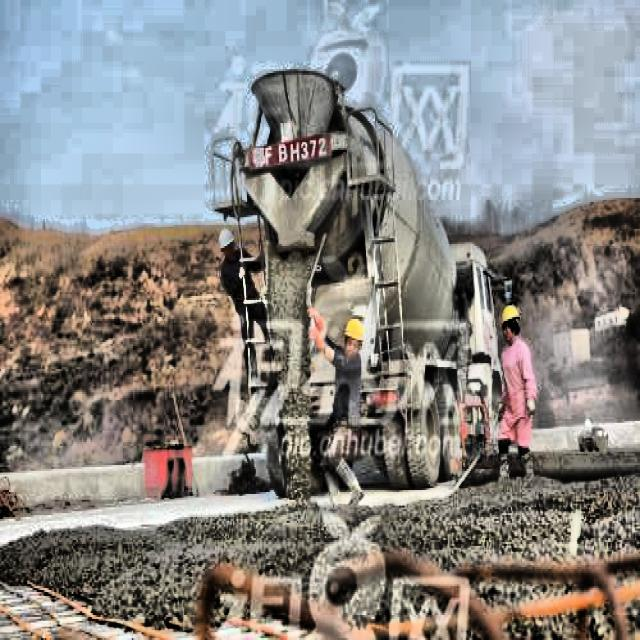helmet: (341, 316, 368, 362), (499, 304, 521, 346), (214, 221, 237, 259)
